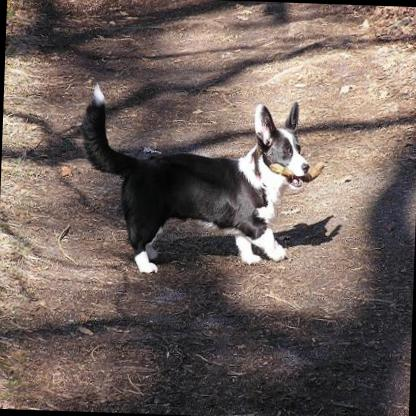Cardigan: (80, 80, 313, 281)
